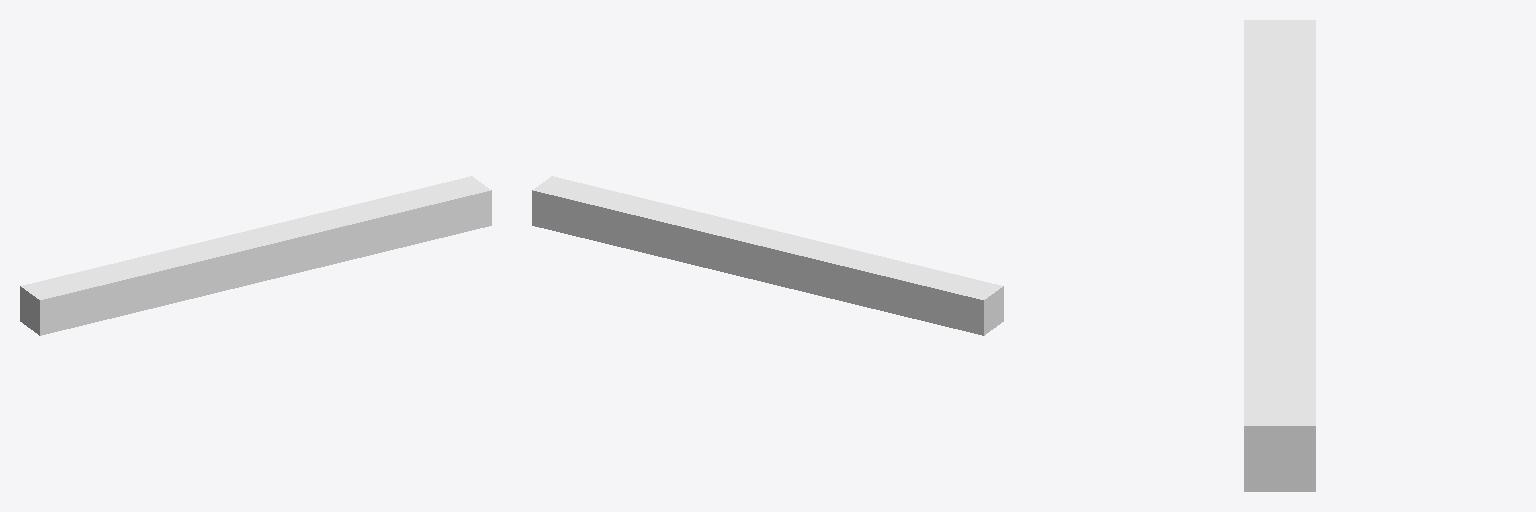
The robot description file, URDF, robot "rect.urdf":
<?xml version="1.0" ?>
<robot name="rect.urdf">
  <link name="baseLink">
    <contact>
    	<friction_anchor/>
    	   <lateral_friction value="1.0"/>
    </contact>
    <inertial>
      <origin rpy="0 0 0" xyz="0 0 0"/>
       <mass value=".1"/>
       <inertia ixx="1" ixy="0" ixz="0" iyy="1" iyz="0" izz="1"/>
    </inertial>
    <visual>
      <origin rpy="0 0 0" xyz="0 0 0"/>
      <geometry>
				<box size="0.2 0.015 0.015" />
      </geometry>
       <material name="white">
        <color rgba="1 1 1 1"/>
      </material>
    </visual>
    <collision>
      <origin rpy="0 0 0" xyz="0 0 0"/>
      <geometry>
	 	<box size="0.2 0.015 0.015" />
      </geometry>
    </collision>
  </link>
</robot>

--- Render facts (derived) ---
The picture shows the robot from 3 angles, left to right: view 1: azimuth 30°, elevation 25°; view 2: azimuth 150°, elevation 25°; view 3: azimuth 270°, elevation 25°; orthographic projection.
Robot: rect.urdf — 1 links, 0 joints (none); root link baseLink; default pose: all joints at 0.
Visible links, largest first — view 1: baseLink; view 2: baseLink; view 3: baseLink.
Link boxes in pixels (left/top/right/bottom): baseLink: left=20, top=176, right=491, bottom=335; baseLink: left=532, top=176, right=1003, bottom=335; baseLink: left=1244, top=20, right=1315, bottom=491.
Bounding box of the posed robot: 0.2 × 0.015 × 0.015 m (x, y, z).
Geometry: primitives only (box / cylinder / sphere), no mesh files.
